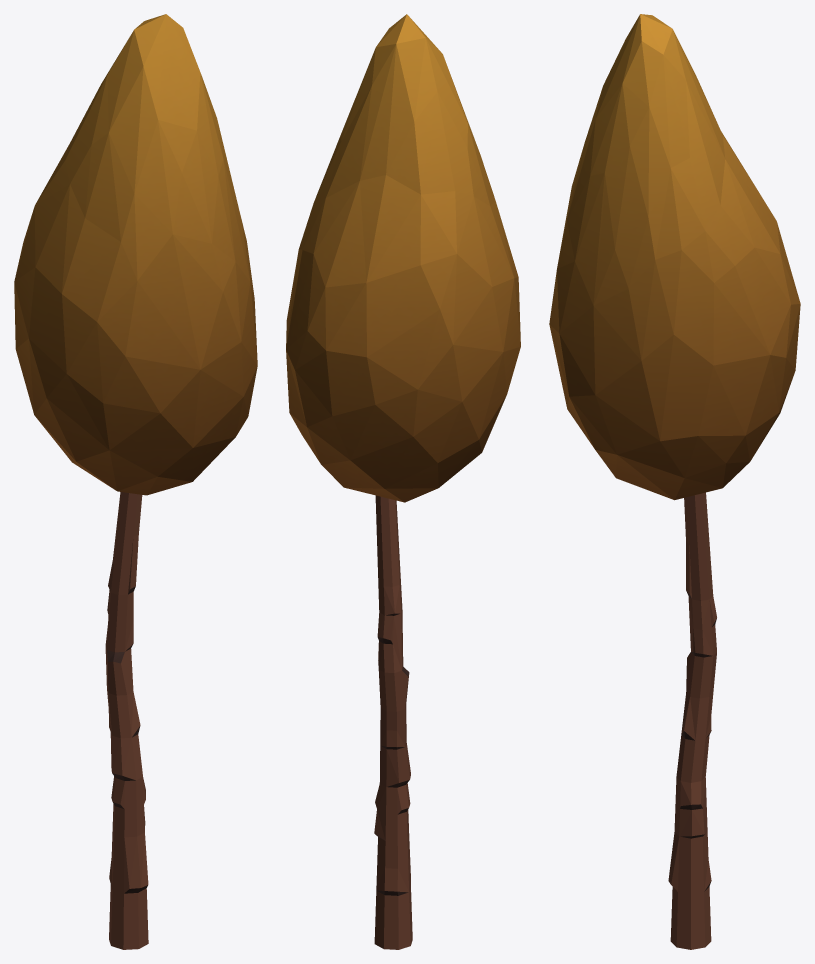
The model's file is ZLP_Plant_J_9.FBX.
The picture shows the model from 3 angles, left to right: view 1: azimuth 30°, elevation 25°; view 2: azimuth 150°, elevation 25°; view 3: azimuth 270°, elevation 25°; orthographic projection. The views are drawn at different scales.
Visible parts, largest first — view 1: ZLP_Plant_J_9; view 2: ZLP_Plant_J_9; view 3: ZLP_Plant_J_9.
Part boxes in pixels (x1,y1,x2,y2): ZLP_Plant_J_9: (14,14,257,949); ZLP_Plant_J_9: (286,14,520,949); ZLP_Plant_J_9: (549,14,800,949).
Bounding box in the file's own units: 186 × 794 × 194.
